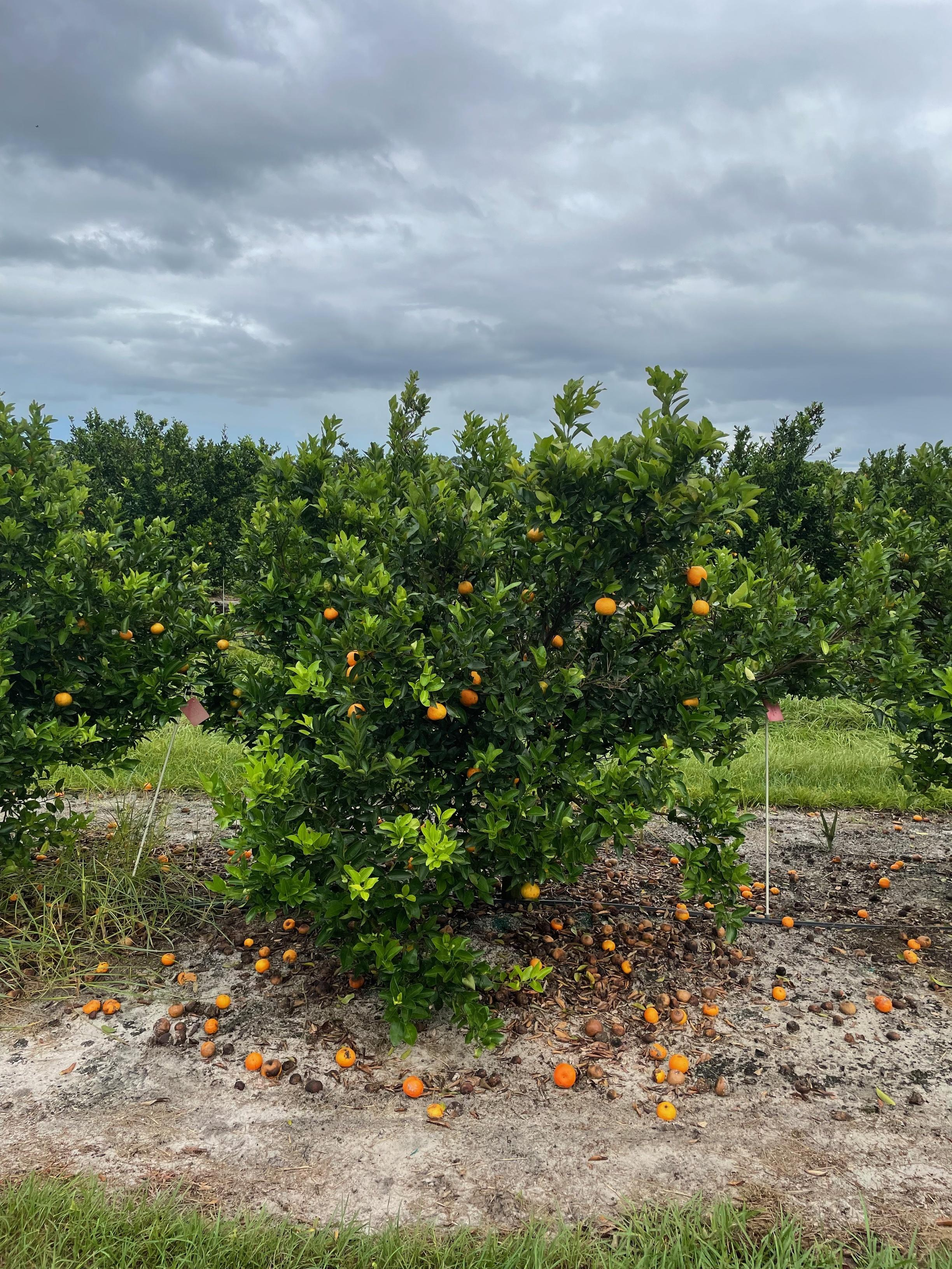fruit_on_ground: (684, 563, 710, 587), (593, 594, 618, 617), (518, 879, 542, 902), (523, 523, 548, 544), (344, 701, 369, 722), (343, 664, 366, 686), (689, 596, 712, 617), (425, 701, 448, 722), (344, 647, 368, 667), (52, 689, 74, 709), (72, 614, 94, 634), (458, 687, 480, 707), (465, 763, 485, 784), (518, 585, 539, 605), (401, 852, 420, 873), (680, 692, 701, 711), (894, 548, 914, 566), (456, 579, 476, 597), (321, 604, 341, 622), (251, 619, 270, 637), (508, 772, 526, 790), (466, 669, 484, 687), (548, 632, 566, 649), (462, 837, 479, 854), (148, 620, 166, 636), (117, 627, 135, 642), (236, 846, 252, 861), (175, 660, 191, 675), (215, 637, 231, 652), (228, 696, 243, 710), (231, 686, 245, 699), (225, 845, 239, 857)
fruit_on_tree: (553, 1062, 577, 1088), (401, 1074, 426, 1098), (656, 1100, 679, 1123), (334, 1045, 357, 1068), (261, 1056, 283, 1077), (243, 1051, 264, 1071), (668, 1051, 689, 1071), (198, 1040, 219, 1059), (584, 1018, 604, 1037), (874, 993, 894, 1012), (586, 1063, 607, 1081), (665, 1069, 686, 1087), (425, 1101, 446, 1119), (152, 1017, 171, 1036), (648, 1041, 668, 1059), (346, 972, 365, 990), (81, 997, 101, 1014), (642, 1004, 660, 1022), (669, 1006, 687, 1024), (166, 1002, 185, 1019), (103, 997, 121, 1014), (214, 992, 232, 1009), (203, 1017, 220, 1035), (177, 970, 197, 985), (651, 1067, 667, 1084), (702, 1000, 719, 1016), (840, 999, 857, 1015), (282, 947, 299, 963), (903, 949, 921, 964), (917, 933, 933, 949), (771, 986, 787, 1002), (94, 959, 111, 974), (160, 951, 177, 966), (254, 958, 271, 973), (700, 986, 718, 1000), (656, 991, 672, 1006), (619, 957, 634, 973), (675, 988, 691, 1003), (610, 1021, 625, 1036), (712, 924, 727, 939), (674, 908, 690, 922), (779, 914, 795, 928), (728, 946, 743, 960), (173, 1020, 188, 1034), (751, 878, 766, 892), (550, 916, 565, 930), (282, 917, 297, 931), (23, 964, 37, 978), (580, 932, 594, 946), (602, 938, 616, 952), (119, 934, 134, 947), (552, 947, 567, 960), (906, 937, 921, 950), (600, 922, 614, 935), (257, 943, 271, 956), (528, 956, 542, 969), (242, 936, 256, 948), (737, 883, 751, 895), (878, 876, 892, 888), (857, 907, 870, 919), (640, 930, 654, 941), (704, 1027, 718, 1038), (270, 973, 284, 984), (820, 1001, 834, 1012), (639, 918, 653, 929), (156, 853, 170, 864), (135, 920, 147, 932), (660, 920, 672, 932), (34, 851, 47, 862), (675, 901, 688, 912), (591, 901, 604, 912), (541, 932, 554, 943), (298, 923, 311, 934), (768, 885, 781, 896), (106, 818, 118, 829), (142, 780, 154, 791), (703, 899, 715, 910), (668, 855, 680, 866), (892, 823, 904, 833), (912, 812, 924, 822), (868, 860, 880, 870), (740, 890, 753, 899), (787, 867, 798, 877), (831, 854, 843, 863), (889, 863, 900, 872), (894, 860, 904, 868)
